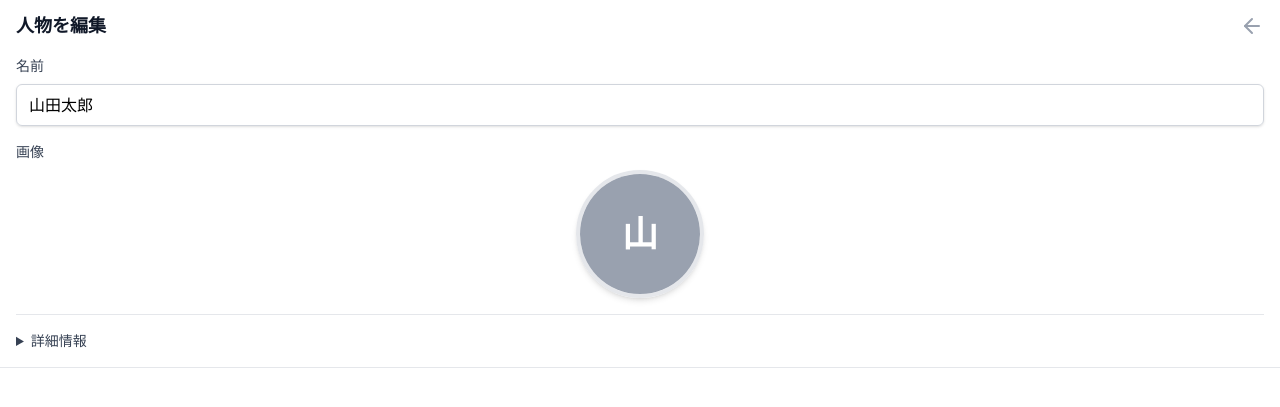
Scenario: PersonEditForm › アイコンクリック時のメニュー表示 › 画像がない場合は「削除」メニューが表示されない
Click the button with test id "person-icon-area": [640, 234] box [576,170,704,298]
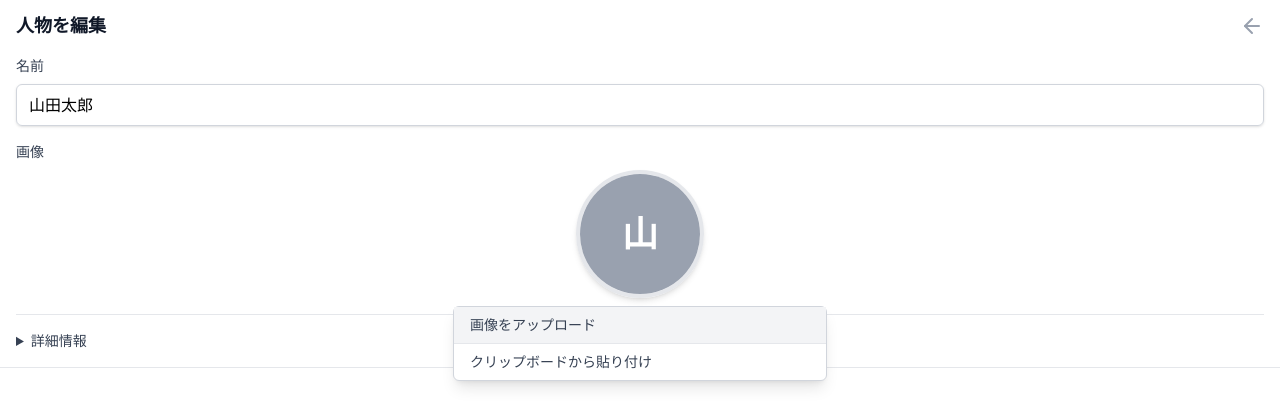
Expected: the menu item "画像をアップロード" is shown, [454,307,826,343]
